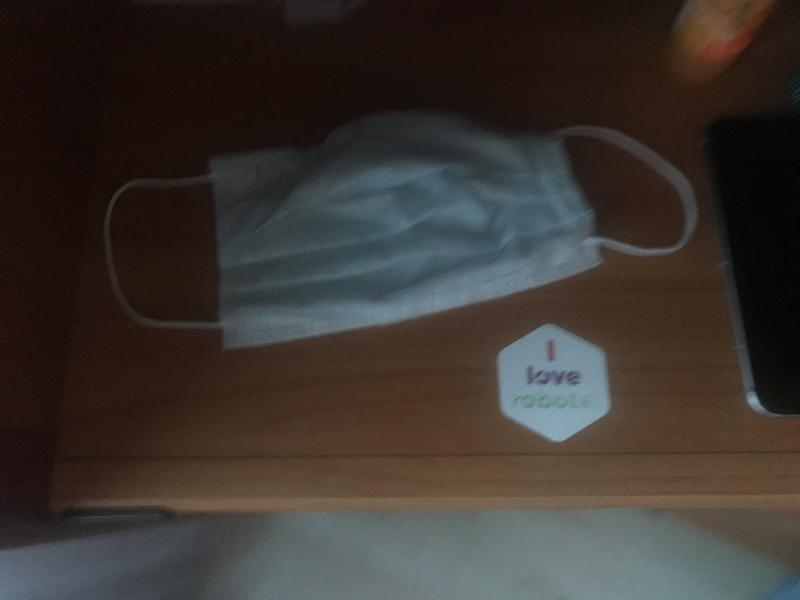medical_mask: (104, 113, 698, 322)
